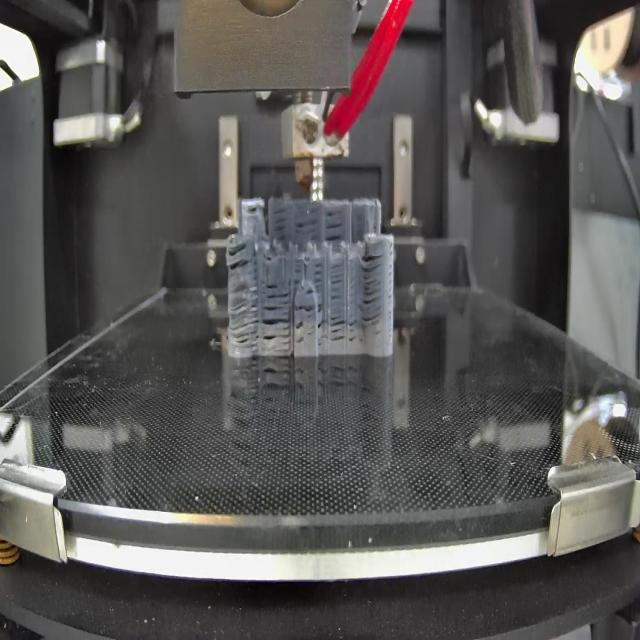cracks: (229, 283, 261, 350), (361, 252, 385, 326), (262, 307, 291, 348), (331, 312, 360, 347), (324, 209, 346, 244), (228, 245, 254, 273), (296, 214, 321, 240), (330, 262, 345, 304), (272, 208, 289, 242), (267, 282, 290, 304), (317, 302, 327, 334), (292, 263, 304, 285), (295, 304, 316, 316), (314, 262, 324, 286), (296, 322, 306, 345), (247, 205, 258, 215), (305, 288, 317, 295)
